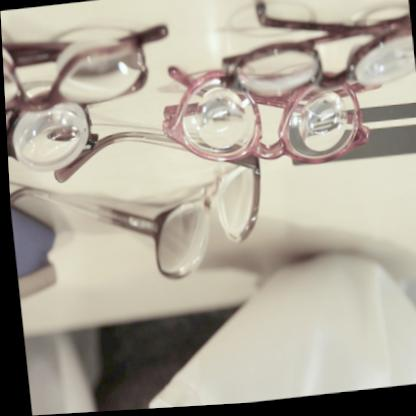Spectacles: (154, 59, 371, 182), (214, 30, 416, 119), (137, 160, 268, 287), (1, 22, 154, 118), (4, 96, 99, 177)
